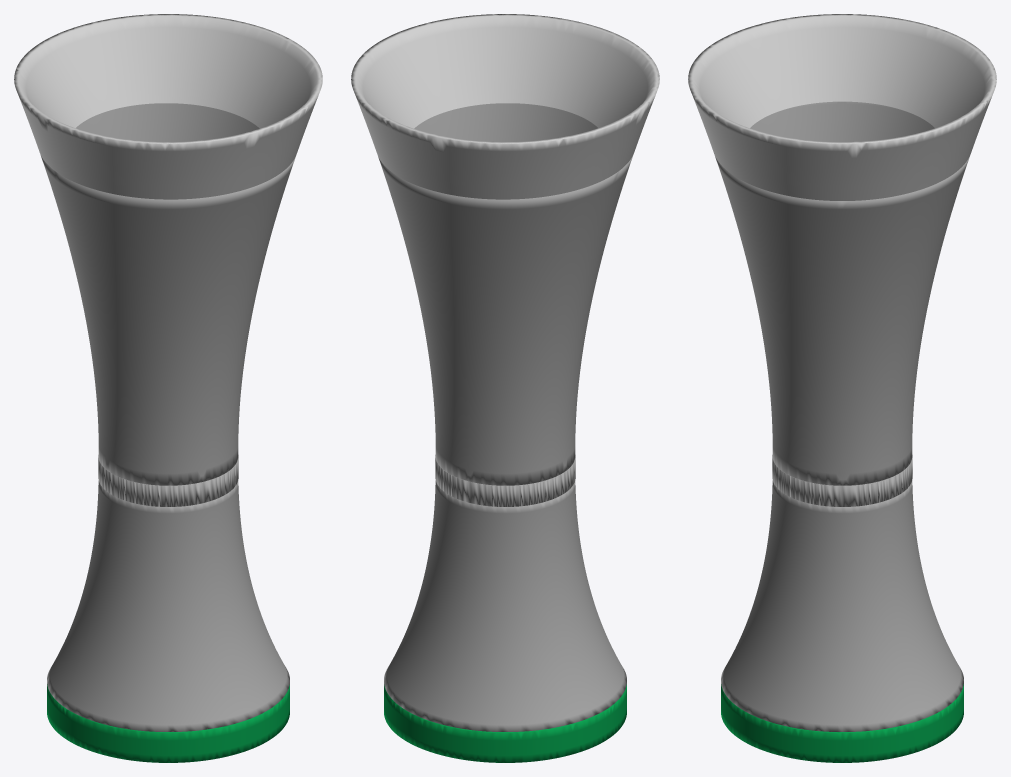
File: UEFA-Europa-Conference-League-D2.glb
The picture shows the model from 3 angles, left to right: view 1: azimuth 30°, elevation 25°; view 2: azimuth 150°, elevation 25°; view 3: azimuth 270°, elevation 25°; orthographic projection.
Visible parts, largest first — view 1: TOp_2, Bottom_2, upper, lower_2, Middle_2; view 2: TOp_2, Bottom_2, upper, lower_2, Middle_2; view 3: TOp_2, Bottom_2, upper, lower_2, Middle_2.
Boxes of the visible parts, <box> form: TOp_2: <box>40,103,295,485</box>; Bottom_2: <box>47,481,289,731</box>; upper: <box>14,14,322,199</box>; lower_2: <box>47,684,289,762</box>; Middle_2: <box>98,455,238,506</box>; TOp_2: <box>378,103,633,485</box>; Bottom_2: <box>384,481,626,731</box>; upper: <box>351,14,659,199</box>; lower_2: <box>384,684,626,762</box>; Middle_2: <box>435,455,575,506</box>; TOp_2: <box>715,101,969,485</box>; Bottom_2: <box>721,481,963,731</box>; upper: <box>688,14,996,200</box>; lower_2: <box>721,684,963,762</box>; Middle_2: <box>772,455,912,506</box>.
Size of the model in its own units: 0.0856 by 0.1936 by 0.0856.
